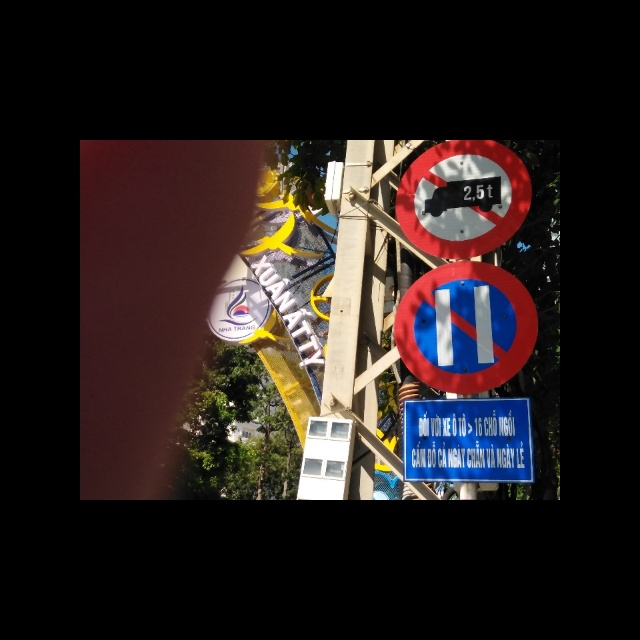Cấm xe tải: (401, 140, 533, 256)
Cấm đỗ xe ngày chẵn: (391, 257, 537, 389)
